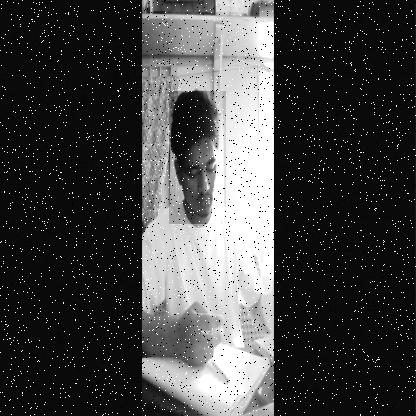Distracted: (169, 91, 226, 224)
